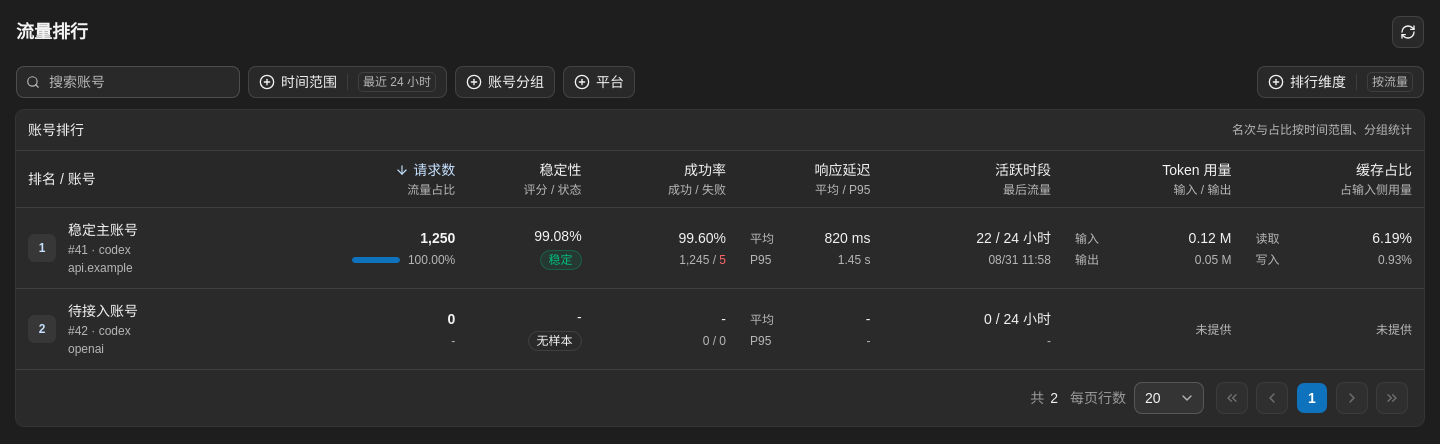
流量排行筛选 › 搜索没有结果时展示空状态，清空搜索后恢复账号
Type "missing" into the field labelled "搜索账号" at point(128, 82), box [16, 66, 240, 98]
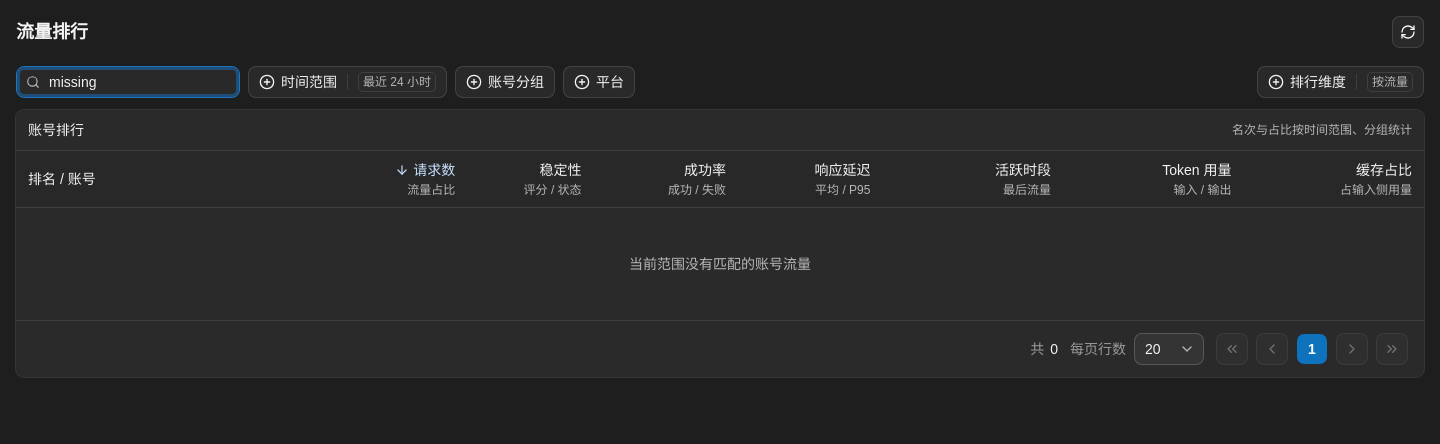
Check: the button named "转到下一页" is disabled, box [1336, 332, 1368, 364]
Check: the text "当前范围没有匹配的账号流量" is shown, box [629, 256, 811, 272]
Clear the field named "搜索账号" at point(128, 82), box [16, 66, 240, 98]
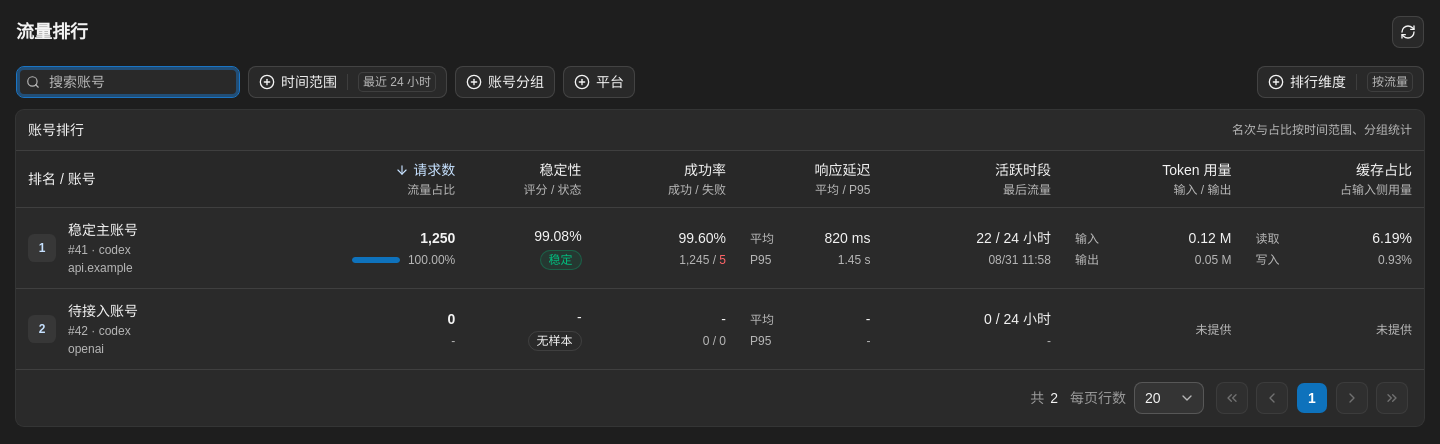
Check: the text "当前范围没有匹配的账号流量" is gone
Check: the text "稳定主账号" is shown, box [68, 222, 138, 238]
Check: the text "待接入账号" is shown, box [68, 302, 138, 318]
